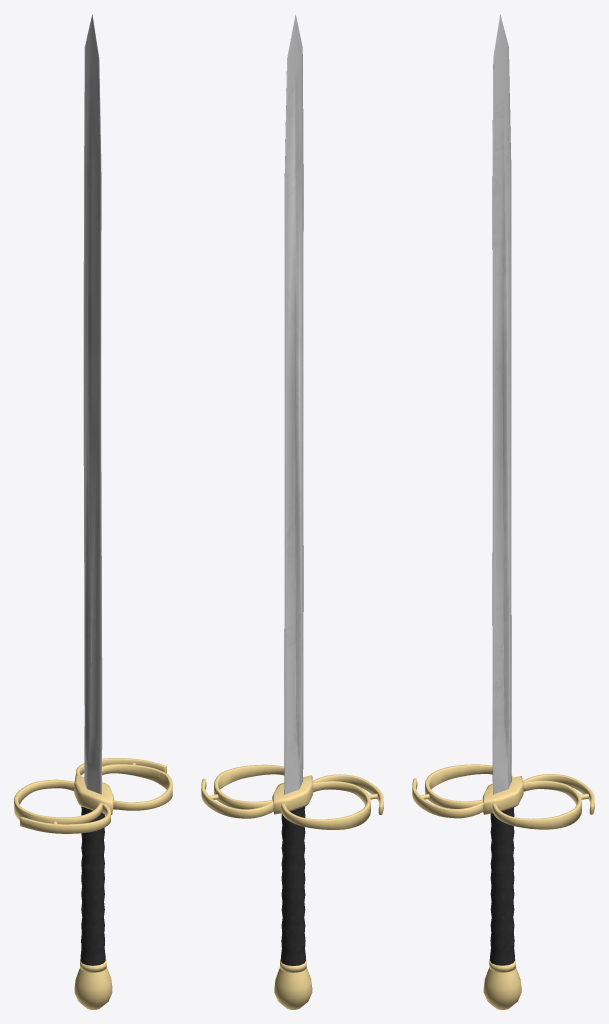
Rendered from JusticeSword_Mesh.fbx.
3 renders of one model, left to right at view 1: azimuth 30°, elevation 25°; view 2: azimuth 150°, elevation 25°; view 3: azimuth 330°, elevation 25°, orthographic.
Parts seen in each view (by area): view 1: JusticeSword_Mesh; view 2: JusticeSword_Mesh; view 3: JusticeSword_Mesh.
Part boxes in pixels (x1,y1,x2,y2): JusticeSword_Mesh: (14,14,172,1009); JusticeSword_Mesh: (201,14,383,1009); JusticeSword_Mesh: (412,14,594,1009).
Size of the model in its own units: 47.93 by 279 by 33.09.
Materials: 1 (1 with a texture image).
